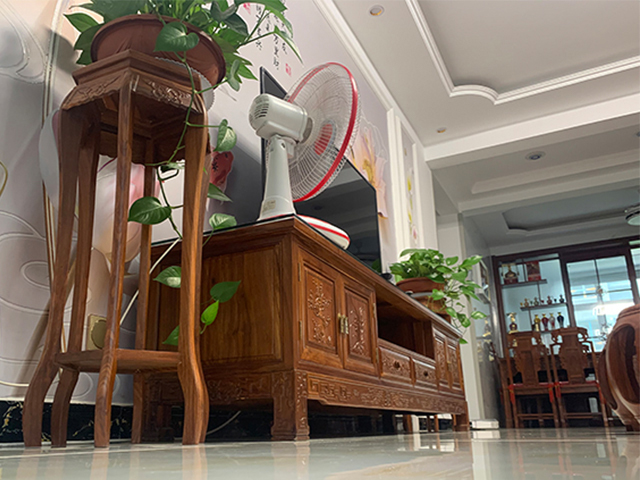cabinet: (138, 213, 470, 439)
stool: (549, 326, 611, 429), (503, 330, 560, 428), (598, 302, 640, 433)
wire: (1, 410, 245, 449)
